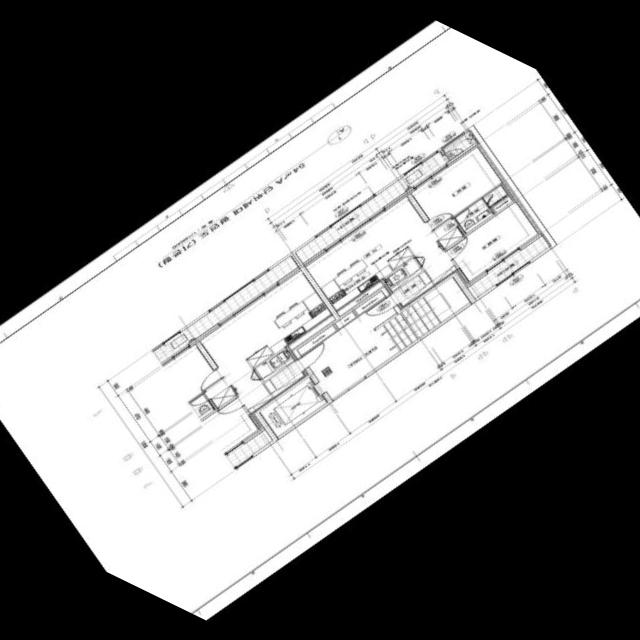background: (0, 20, 640, 620)
space_balconi: (294, 151, 446, 263), (466, 234, 550, 299)
space_bedroom: (408, 143, 504, 229), (446, 199, 541, 282)
space_elevator: (258, 377, 326, 437)
space_elevator_hall: (301, 297, 395, 399)
space_front: (389, 264, 456, 309)
space_kitchen: (320, 233, 414, 310)
space_living_room: (302, 195, 462, 288)
space_multipurpose_space: (382, 258, 421, 294)
space_other: (336, 280, 383, 317), (296, 325, 335, 355), (354, 291, 384, 315), (334, 311, 355, 328), (491, 196, 511, 212)
space_outdoor_room: (441, 130, 476, 160)
space_staircase: (374, 276, 469, 356)
space_toilet: (453, 184, 507, 233)
